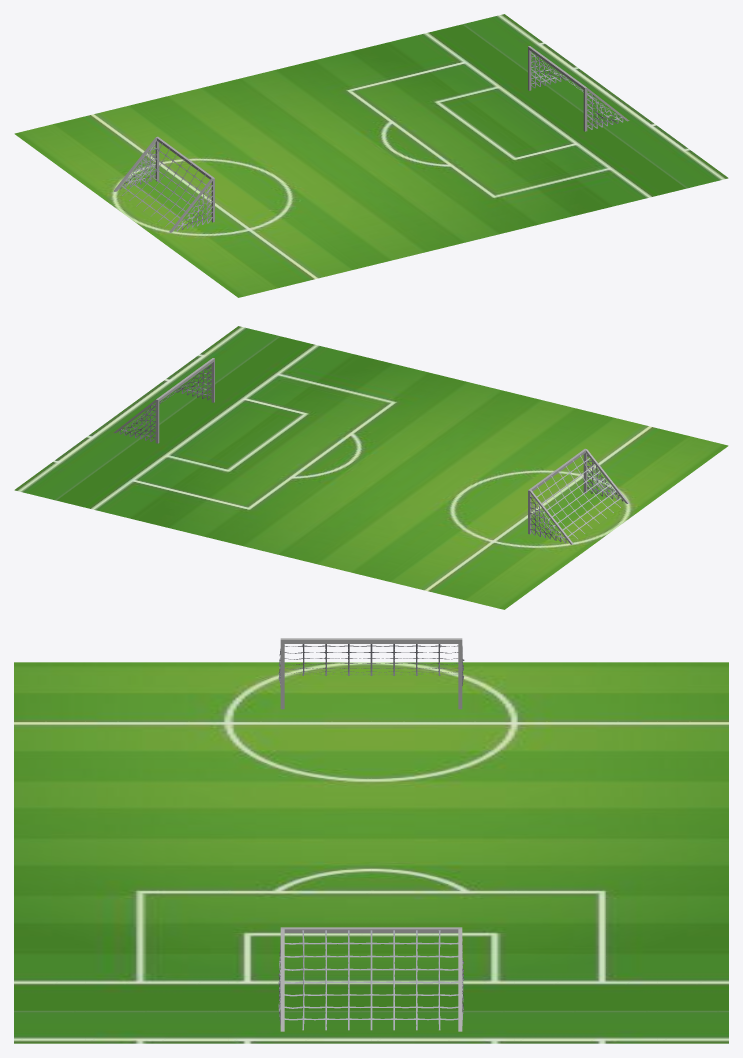
Rendered from CanchaParaPenalties.glb.
3 views of the same model, one above another, from view 1: azimuth 30°, elevation 25°; view 2: azimuth 150°, elevation 25°; view 3: azimuth 270°, elevation 25° (orthographic). The views are drawn at different scales.
Parts seen in each view (by area): view 1: Cancha_Floor, Porteria1, Porteria2; view 2: Cancha_Floor, Porteria1, Porteria2; view 3: Cancha_Floor, Porteria2, Porteria1.
Part boxes in pixels (<box>): Cancha_Floor: <box>14,14,728,297</box>; Porteria1: <box>113,136,214,232</box>; Porteria2: <box>528,46,629,131</box>; Cancha_Floor: <box>14,326,728,609</box>; Porteria1: <box>528,448,629,544</box>; Porteria2: <box>113,358,214,443</box>; Cancha_Floor: <box>14,662,728,1043</box>; Porteria2: <box>278,927,464,1031</box>; Porteria1: <box>278,638,464,709</box>.
Size of the model in its own units: 3.22 by 0.2897 by 2.55.
Materials: 3 (1 with a texture image).
